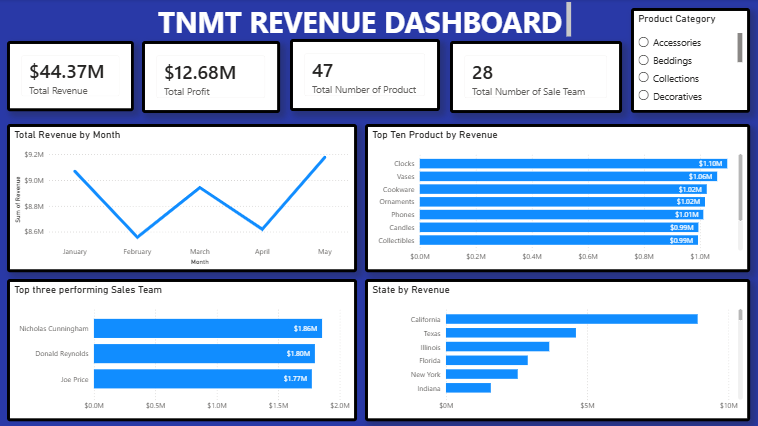

The dashboard page shown, as its layout file describes it:
{"tool":"powerbi","page":{"name":"Dashboard","canvas":[1280,720],"ordinal":4},"visuals":[{"type":"cardVisual","fields":{"Data":["Sales table.Total Revenue"]},"box":[16.8,70.6,213.3,117.6],"z":0},{"type":"cardVisual","fields":{"Data":["Sales table.Total Profit"]},"box":[243.6,70.6,231.8,120.9],"z":1000},{"type":"cardVisual","fields":{"Data":["Sales table.Total Number of Product"]},"box":[492.2,67.2,252,120.9],"z":2000},{"type":"cardVisual","fields":{"Data":["Sales table.Totla Number of Sale Team"]},"box":[760.9,70.6,288.9,120.9],"z":3000},{"type":"lineChart","title":"Total Revenue by Month","fields":{"Category":["Sales table.Sales Date.Variation.Date Hierarchy.Month"],"Y":["Sum(Sales table.Revenue)"]},"box":[16.8,210,587.9,248.6],"z":4000},{"type":"barChart","title":"Top Ten Product by Revenue","fields":{"Category":["Products.Product Name"],"Y":["Sum(Sales table.Revenue)"]},"box":[618.2,210,646.7,248.6],"z":5000},{"type":"barChart","title":"Top three performing Sales Team","fields":{"Category":["Sales Team.Sales Team"],"Y":["Sum(Sales table.Revenue)"]},"box":[16.8,470.3,587.9,238.5],"z":6000},{"type":"barChart","title":"State by Revenue","fields":{"Category":["Store Locations.state"],"Y":["Sum(Sales table.Revenue)"]},"box":[618.2,470.3,646.7,238.5],"z":7000},{"type":"textbox","box":[265.4,0,703.8,70.6],"z":7001},{"type":"listSlicer","fields":{"Values":["Products.Product Category"]},"box":[1065,15.1,199.9,176.4],"z":7002}]}

Visuals, with their boxes in screenshot pixels (x1, y1, x2, y2), scaled from the page's 1280x720 canvas onto the 758x426 screenshot:
cardVisual - Sales table.Total Revenue: {"left": 10, "top": 42, "right": 136, "bottom": 111}
cardVisual - Sales table.Total Profit: {"left": 144, "top": 42, "right": 282, "bottom": 113}
cardVisual - Sales table.Total Number of Product: {"left": 291, "top": 40, "right": 441, "bottom": 111}
cardVisual - Sales table.Totla Number of Sale Team: {"left": 451, "top": 42, "right": 622, "bottom": 113}
"Total Revenue by Month" lineChart: {"left": 10, "top": 124, "right": 358, "bottom": 271}
"Top Ten Product by Revenue" barChart: {"left": 366, "top": 124, "right": 749, "bottom": 271}
"Top three performing Sales Team" barChart: {"left": 10, "top": 278, "right": 358, "bottom": 419}
"State by Revenue" barChart: {"left": 366, "top": 278, "right": 749, "bottom": 419}
textbox: {"left": 157, "top": 0, "right": 574, "bottom": 42}
listSlicer - Products.Product Category: {"left": 631, "top": 9, "right": 749, "bottom": 113}
